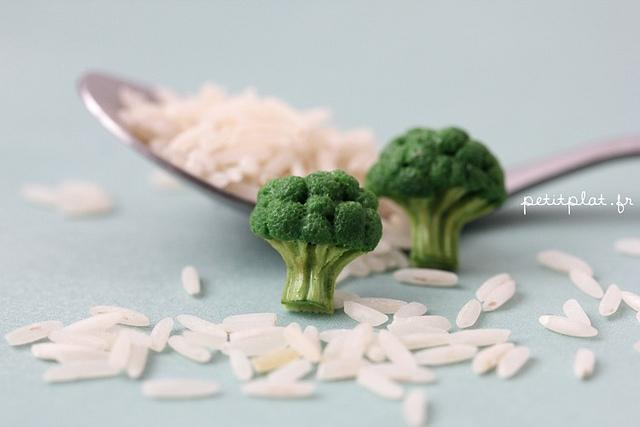broccoli: (366, 128, 507, 272), (249, 169, 383, 314)
